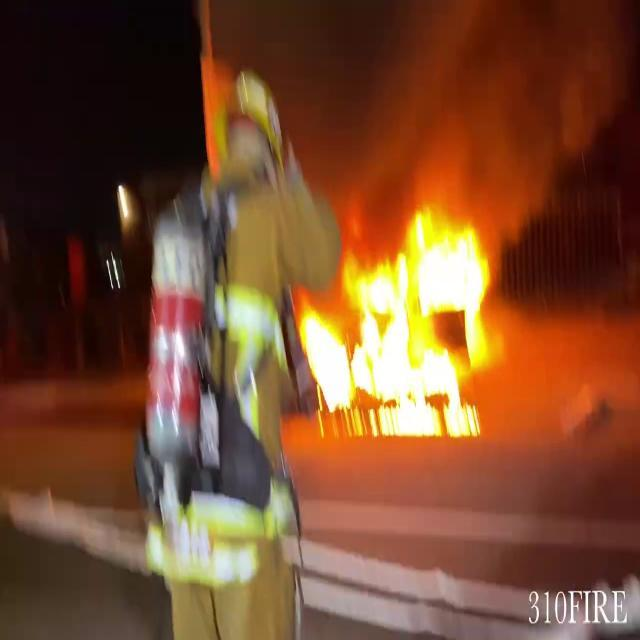Fire: (300, 199, 504, 442)
Smoke: (381, 0, 639, 231)
